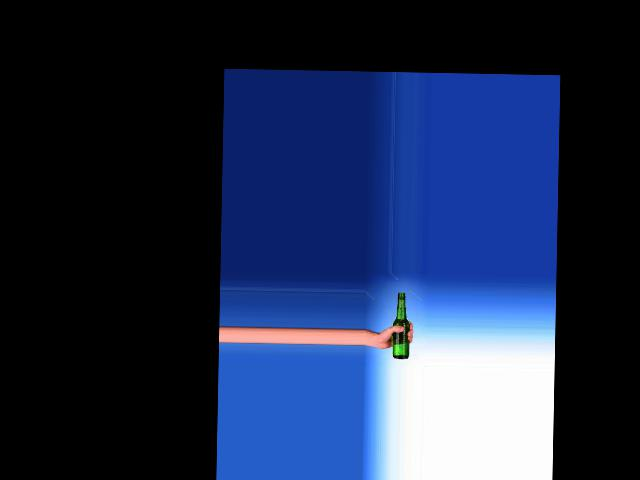beer: (392, 292, 409, 359)
